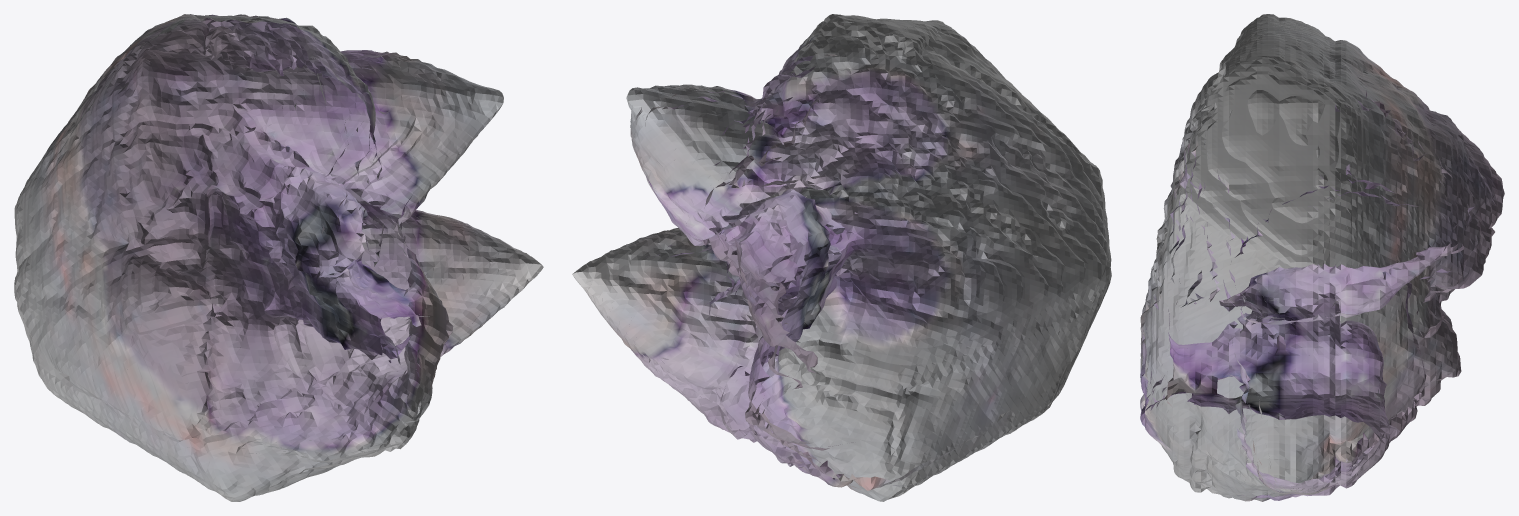
File: atelier.glb
3 renders of one model, left to right at view 1: azimuth 30°, elevation 25°; view 2: azimuth 150°, elevation 25°; view 3: azimuth 270°, elevation 25°, orthographic. The views are drawn at different scales.
Parts seen in each view (by area): view 1: world; view 2: world; view 3: world.
Boxes of the visible parts, x1,y1,x2,y2 form: world: (14,14,543,501); world: (572,14,1111,501); world: (1140,14,1504,501).
Size of the model in its own units: 0.8907 by 0.8097 by 0.5933.
